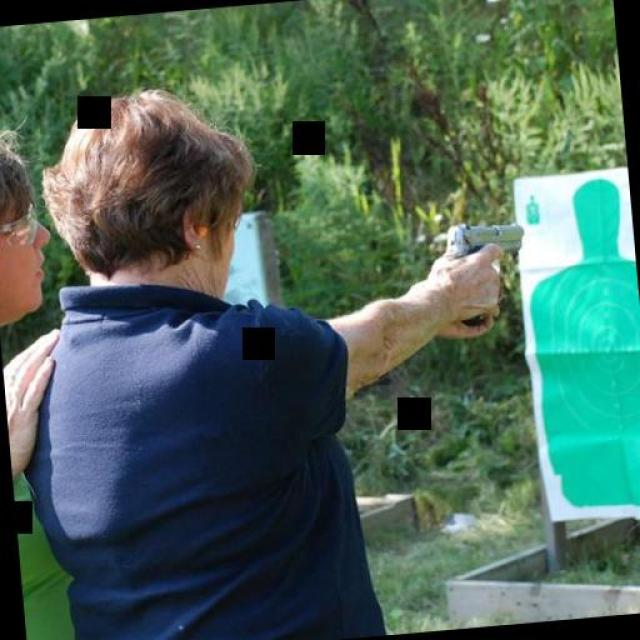gun: (441, 220, 529, 326)
